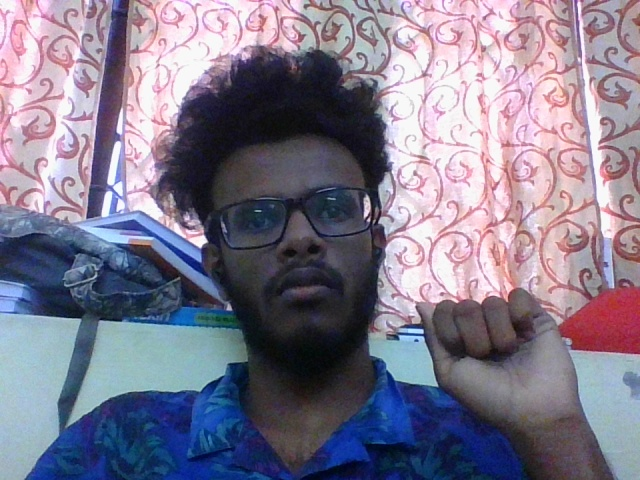yes: (401, 288, 614, 480)
